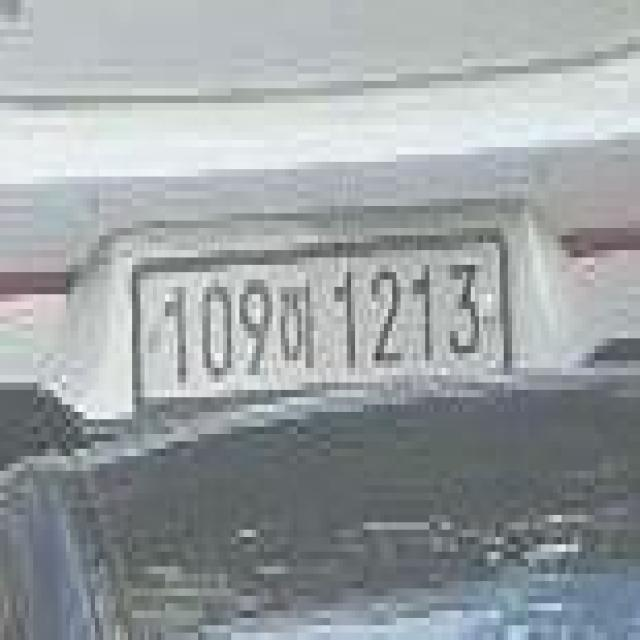illegal_plate: (128, 226, 515, 415)
